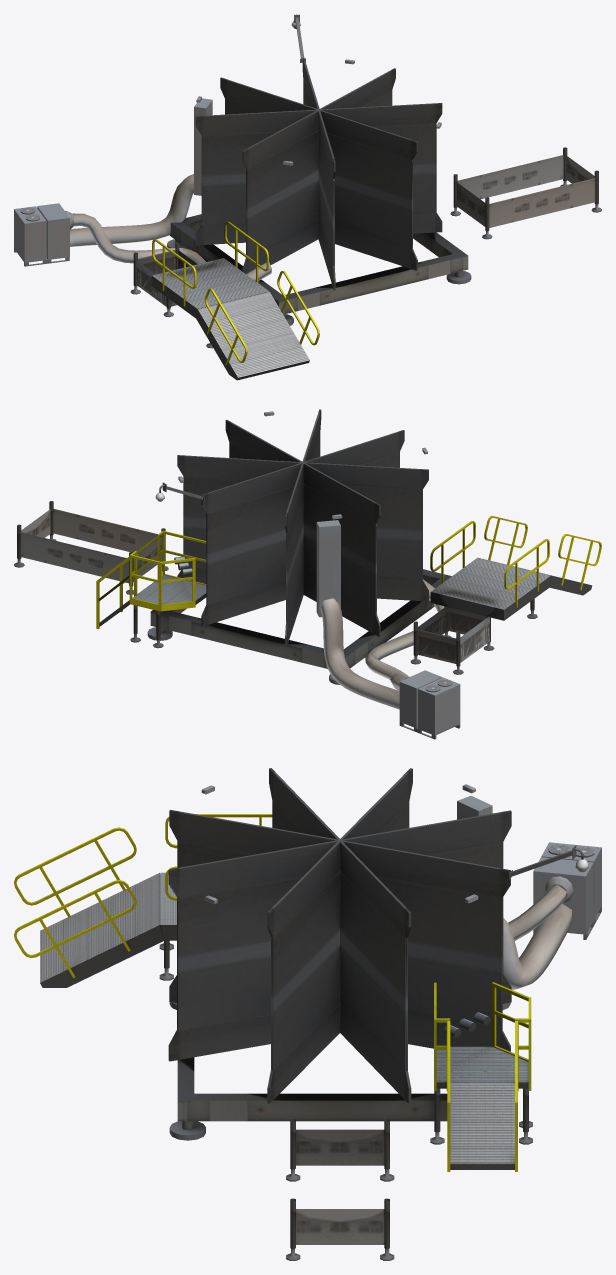
The model's file is habitat_demonstration_unit_part_2.dae.
3 renders of one model, top to bottom at view 1: azimuth 30°, elevation 25°; view 2: azimuth 150°, elevation 25°; view 3: azimuth 270°, elevation 25°, orthographic. The views are drawn at different scales.
Visible parts, largest first — view 1: HDU_lowRez_part2; view 2: HDU_lowRez_part2; view 3: HDU_lowRez_part2.
Part boxes in pixels (left/top/right/bottom): HDU_lowRez_part2: left=14, top=14, right=601, bottom=380; HDU_lowRez_part2: left=14, top=409, right=601, bottom=739; HDU_lowRez_part2: left=14, top=768, right=601, bottom=1260.
Size of the model in its own units: 16.67 by 11.65 by 5.75.
1 material, 1 textured.
